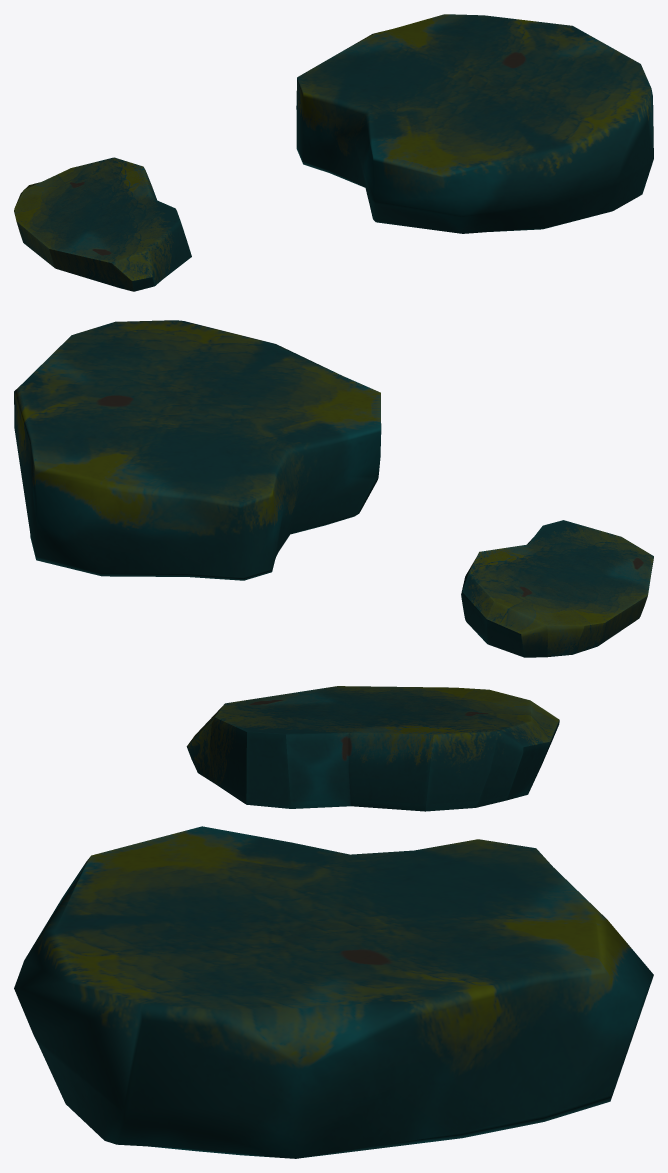
File: stone01.fbx
3 views of the same model, one above another, from view 1: azimuth 30°, elevation 25°; view 2: azimuth 150°, elevation 25°; view 3: azimuth 270°, elevation 25° (orthographic). The views are drawn at different scales.
Parts seen in each view (by area): view 1: stone01 (×2); view 2: stone01 (×2); view 3: stone01 (×2).
Boxes of the visible parts, <box> form: stone01 (×2): <box>14,14,653,291</box>; stone01 (×2): <box>14,320,653,657</box>; stone01 (×2): <box>14,686,653,1158</box>.
Bounding box in the file's own units: 6.32 × 1.06 × 3.8.
Materials: 1 (1 with a texture image).
